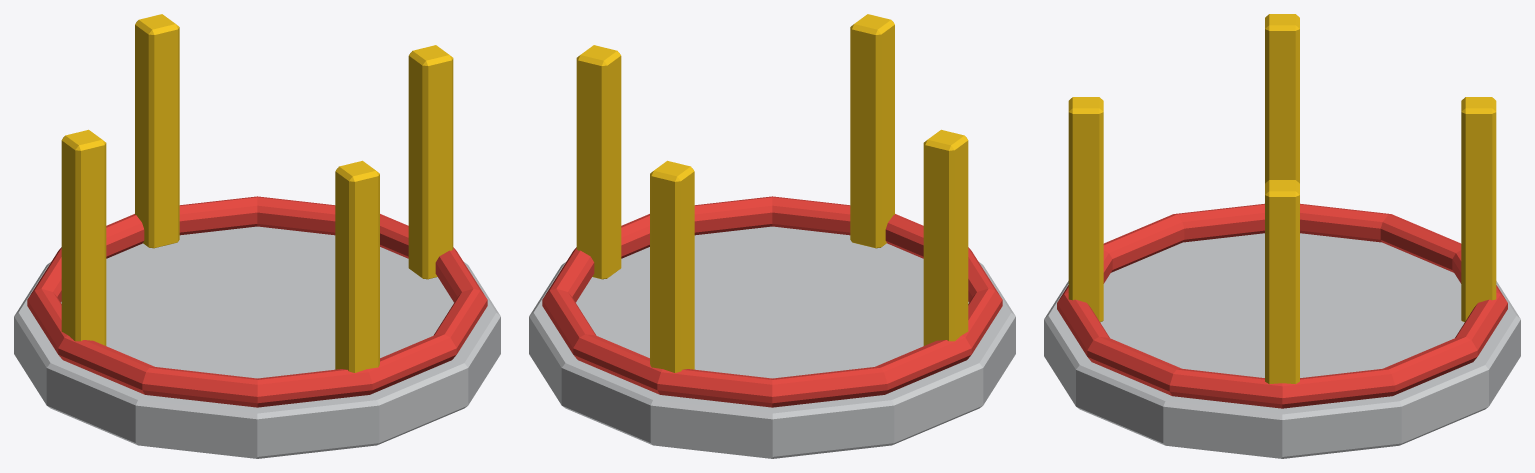
File: rocket_pad.glb
The picture shows the model from 3 angles, left to right: view 1: azimuth 30°, elevation 25°; view 2: azimuth 150°, elevation 25°; view 3: azimuth 270°, elevation 25°; orthographic projection. The views are drawn at different scales.
Parts seen in each view (by area): view 1: rocket_pad; view 2: rocket_pad; view 3: rocket_pad.
Part boxes in pixels (bbox=[...]): rocket_pad: bbox=[14, 14, 500, 458]; rocket_pad: bbox=[529, 14, 1015, 458]; rocket_pad: bbox=[1044, 14, 1520, 458].
Size of the model in its own units: 0.68 by 0.405 by 0.68.
